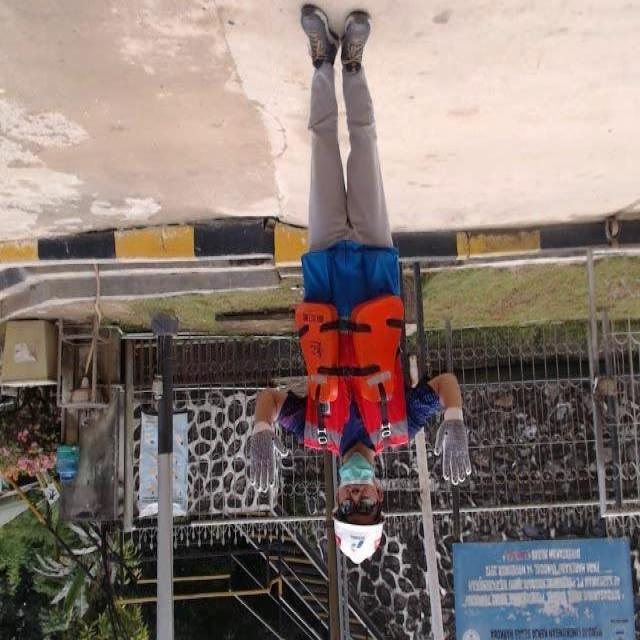helmet: (327, 514, 398, 570)
jacket: (295, 296, 419, 460)
